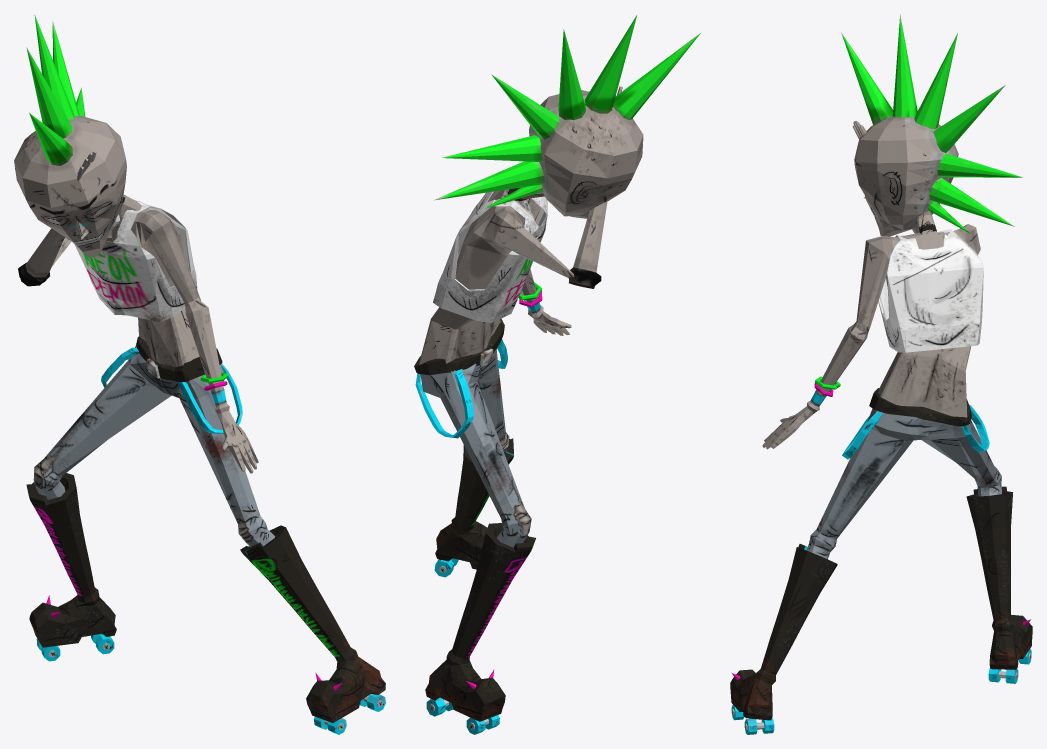
The model's file is punkAnimation_000007.obj.
3 renders of one model, left to right at view 1: azimuth 30°, elevation 25°; view 2: azimuth 150°, elevation 25°; view 3: azimuth 270°, elevation 25°, orthographic. The views are drawn at different scales.
Visible parts, largest first — view 1: Cube.004_Cube.003; view 2: Cube.004_Cube.003; view 3: Cube.004_Cube.003.
Boxes of the visible parts, bbox=[...] form: Cube.004_Cube.003: bbox=[14, 15, 385, 734]; Cube.004_Cube.003: bbox=[414, 15, 700, 734]; Cube.004_Cube.003: bbox=[730, 14, 1032, 734].
Bounding box in the file's own units: 3.17 × 6.71 × 3.01.
